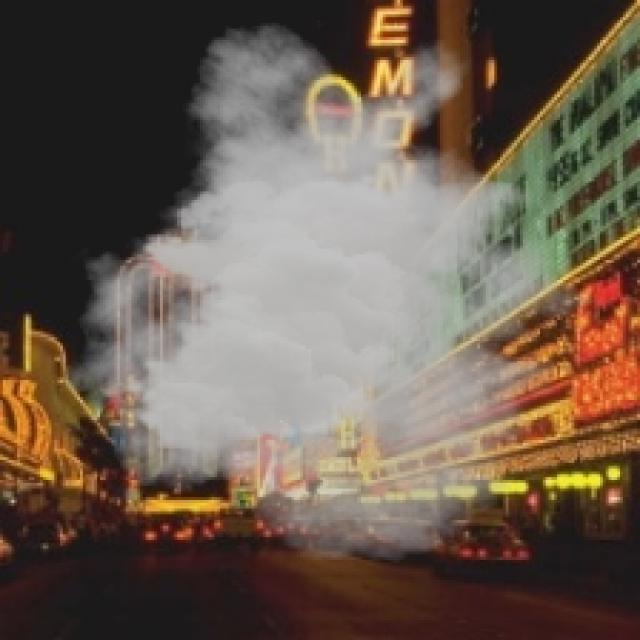smoke: (63, 20, 617, 563)
